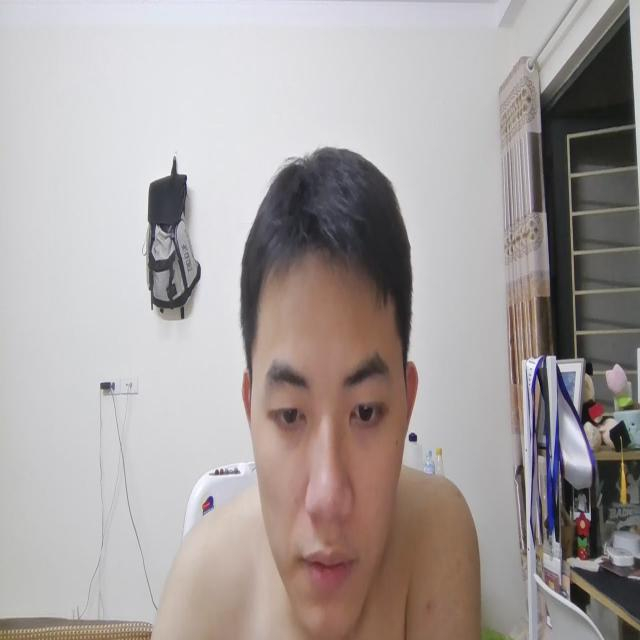student: (229, 127, 422, 637)
